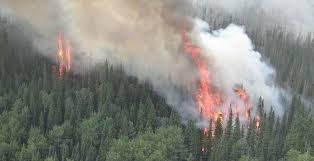fire: (184, 33, 264, 134), (52, 34, 73, 79)
